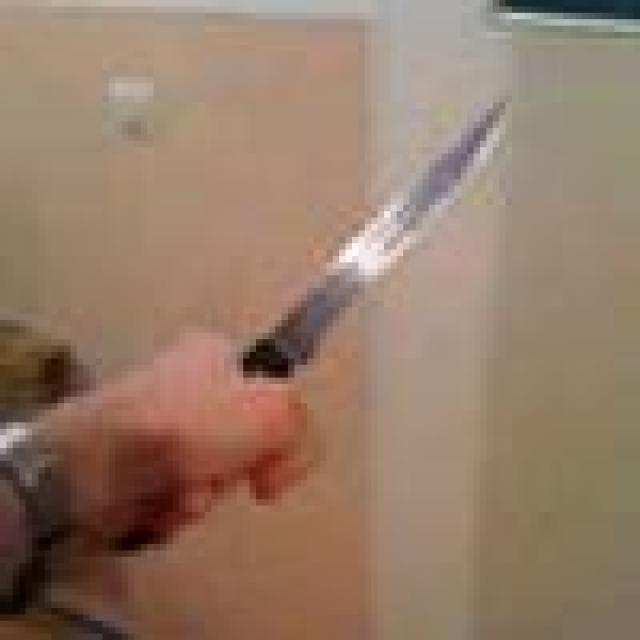knife: (230, 92, 516, 378)
